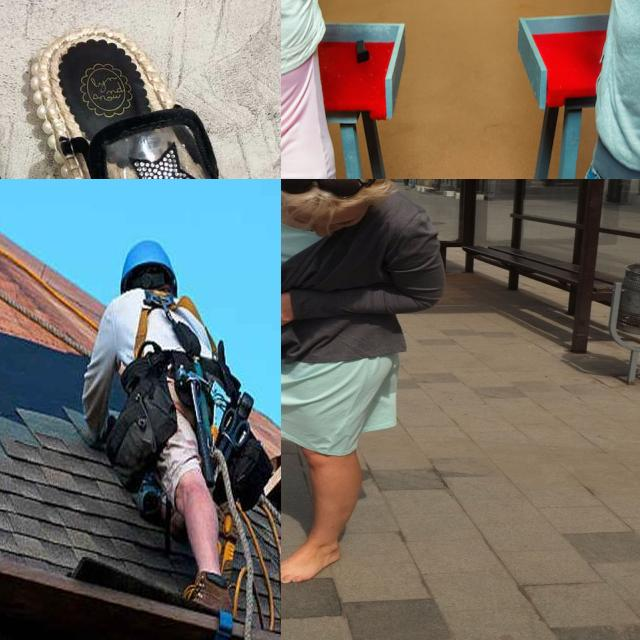Barefoots: (281, 542, 340, 583)
Harness: (115, 291, 232, 494)
Sandals: (0, 0, 281, 179)
person: (281, 0, 365, 179), (559, 0, 640, 179)
